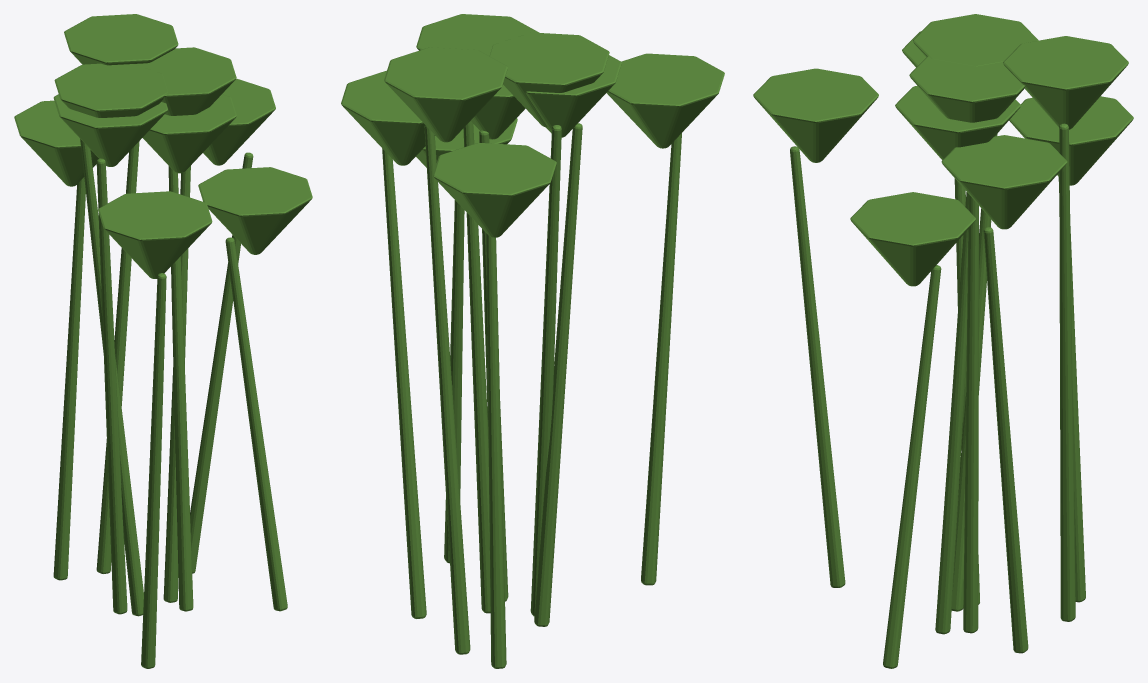
File: egipto_papyrus.fbx
3 renders of one model, left to right at view 1: azimuth 30°, elevation 25°; view 2: azimuth 150°, elevation 25°; view 3: azimuth 270°, elevation 25°, orthographic. The views are drawn at different scales.
Parts seen in each view (by area): view 1: egipto_papyrus; view 2: egipto_papyrus; view 3: egipto_papyrus.
Boxes of the visible parts, x1,y1,x2,y2 form: egipto_papyrus: (14, 14, 312, 668); egipto_papyrus: (341, 14, 724, 668); egipto_papyrus: (753, 14, 1133, 668).
Size of the model in its own units: 1.06 by 2.12 by 1.29.
